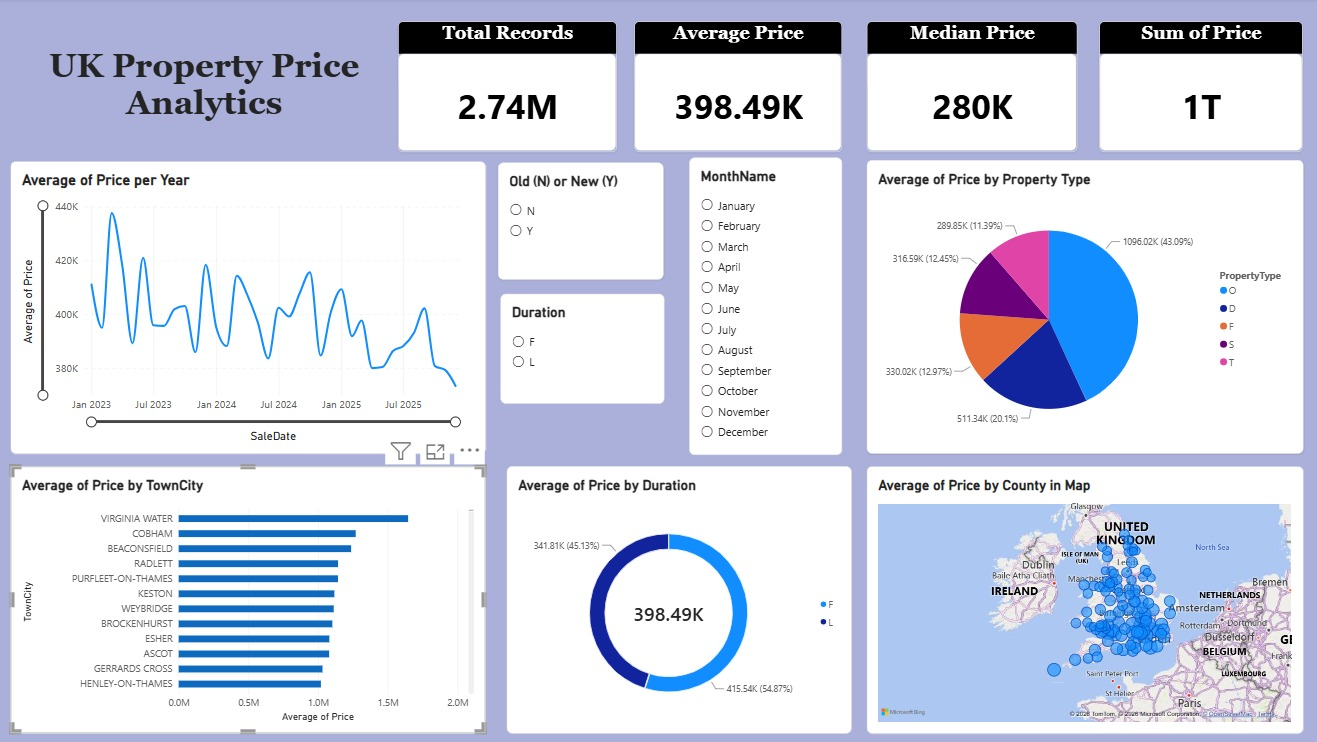

This screenshot's page, from the dashboard's own definition file:
{"tool":"powerbi","page":{"name":"Overview","canvas":[1920,1080],"ordinal":0},"visuals":[{"type":"cardVisual","title":"Total Records","fields":{"Data":["CountNonNull(house_price_analytics.Price)"]},"box":[582,30,318,190],"z":0},{"type":"cardVisual","title":" Average Price","fields":{"Data":["Avg(house_price_analytics.Price)"]},"box":[926,30,302,190],"z":1000},{"type":"cardVisual","title":"Median Price","fields":{"Data":["Median(house_price_analytics.Price)"]},"box":[1264,30,306,190],"z":2000},{"type":"cardVisual","title":"Sum of Price","fields":{"Data":["Sum(house_price_analytics.Price)"]},"box":[1602,30,296,190],"z":3000},{"type":"lineChart","title":"Average of Price per Year","fields":{"Category":["house_price_analytics.SaleDate"],"Y":["Avg(house_price_analytics.Price)"]},"box":[18.1,235.3,691.3,425.3],"z":4000},{"type":"pieChart","title":"Average of Price by Property Type ","fields":{"Category":["house_price_analytics.PropertyType"],"Y":["Avg(house_price_analytics.Price)"]},"box":[1263.1,233.4,635.2,427.1],"z":5000},{"type":"map","title":"Average of Price by County in Map","fields":{"Category":["house_price_analytics.County"],"Size":["Avg(house_price_analytics.Price)"]},"box":[1263.1,678.6,635.2,389.1],"z":6000},{"type":"listSlicer","title":"Old (N) or New (Y)","fields":{"Values":["house_price_analytics.OldNew"]},"box":[728,236,240.7,170.1],"z":7000},{"type":"listSlicer","fields":{"Values":["house_price_analytics.Duration"]},"box":[730,428,238,160],"z":8000},{"type":"listSlicer","fields":{"Values":["house_price_analytics.MonthName"]},"box":[1006.2,229.8,222.6,432.5],"z":9000},{"type":"barChart","title":"Average of Price by TownCity","fields":{"Category":["house_price_analytics.TownCity"],"Y":["Avg(house_price_analytics.Price)"]},"box":[18.1,678.6,691.3,389.1],"z":10000},{"type":"donutChart","title":"Average of Price by Duration","fields":{"Category":["house_price_analytics.Duration"],"Y":["Avg(house_price_analytics.Price)"]},"box":[740.2,678.6,501.3,389.1],"z":10001},{"type":"textbox","box":[18.2,30.9,563.6,172.7],"z":10002}]}

Visuals, with their boxes in screenshot pixels (x1, y1, x2, y2), scaled from the page's 1920x1080 canvas onto the 1317x742 screenshot:
"Total Records" cardVisual: 399,21,617,151
" Average Price" cardVisual: 635,21,842,151
"Median Price" cardVisual: 867,21,1077,151
"Sum of Price" cardVisual: 1099,21,1302,151
"Average of Price per Year" lineChart: 12,162,487,454
"Average of Price by Property Type " pieChart: 866,160,1302,454
"Average of Price by County in Map" map: 866,466,1302,734
"Old (N) or New (Y)" listSlicer: 499,162,664,279
listSlicer - house_price_analytics.Duration: 501,294,664,404
listSlicer - house_price_analytics.MonthName: 690,158,843,455
"Average of Price by TownCity" barChart: 12,466,487,734
"Average of Price by Duration" donutChart: 508,466,852,734
textbox: 12,21,399,140
